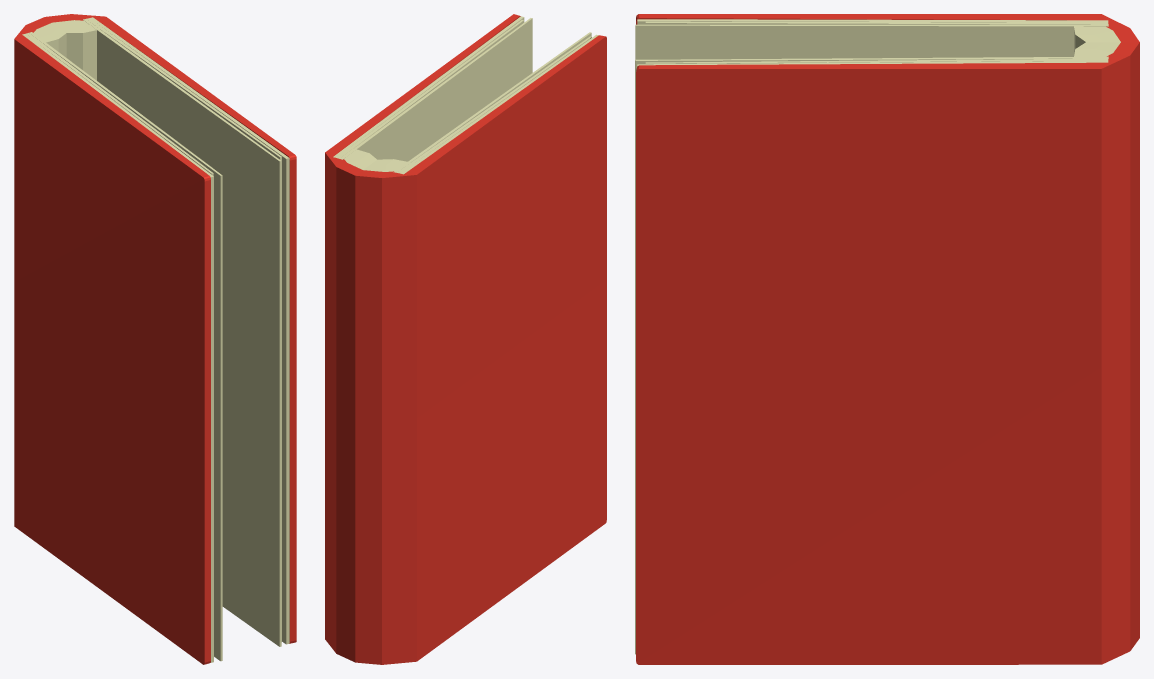
File: openBook.fbx
The picture shows the model from 3 angles, left to right: view 1: azimuth 30°, elevation 25°; view 2: azimuth 150°, elevation 25°; view 3: azimuth 270°, elevation 25°; orthographic projection. The views are drawn at different scales.
Parts seen in each view (by area): view 1: book_L_part, book_R_part, book_middle_part; view 2: book_L_part, book_middle_part, book_R_part; view 3: book_R_part, book_middle_part, book_L_part.
Boxes of the visible parts, x1,y1,x2,y2 form: book_L_part: (14, 32, 222, 664); book_R_part: (83, 16, 296, 646); book_middle_part: (14, 14, 107, 80); book_L_part: (393, 32, 606, 661); book_middle_part: (325, 146, 417, 664); book_R_part: (325, 14, 532, 161); book_R_part: (635, 56, 1108, 664); book_middle_part: (1073, 14, 1139, 664); book_L_part: (635, 14, 1108, 59).
Bounding box in the file's own units: 5.94 × 30.04 × 23.03.
